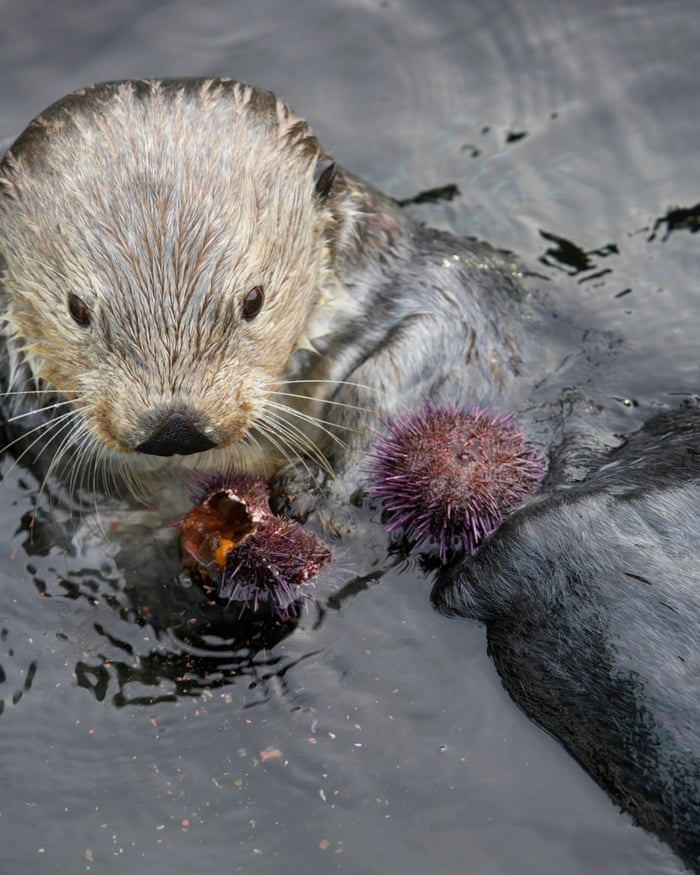otter: (1, 30, 364, 487)
